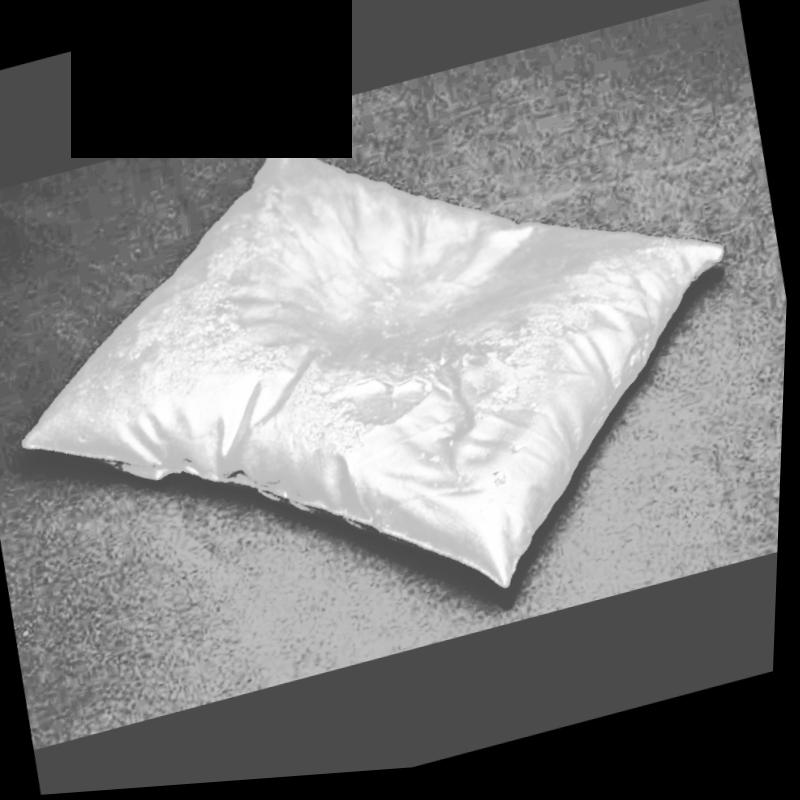pillow: (0, 45, 750, 716)
